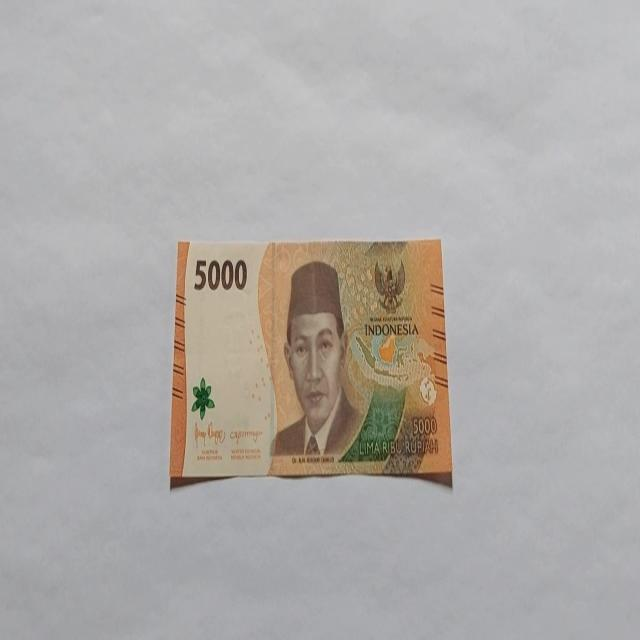lima ribu rupiah: (169, 236, 453, 489), (268, 258, 366, 462)
